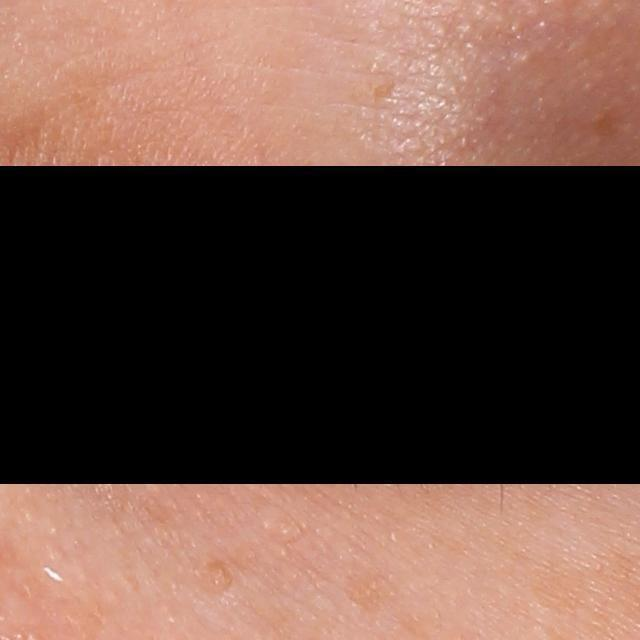melasma: (339, 567, 410, 626), (582, 106, 625, 142)
